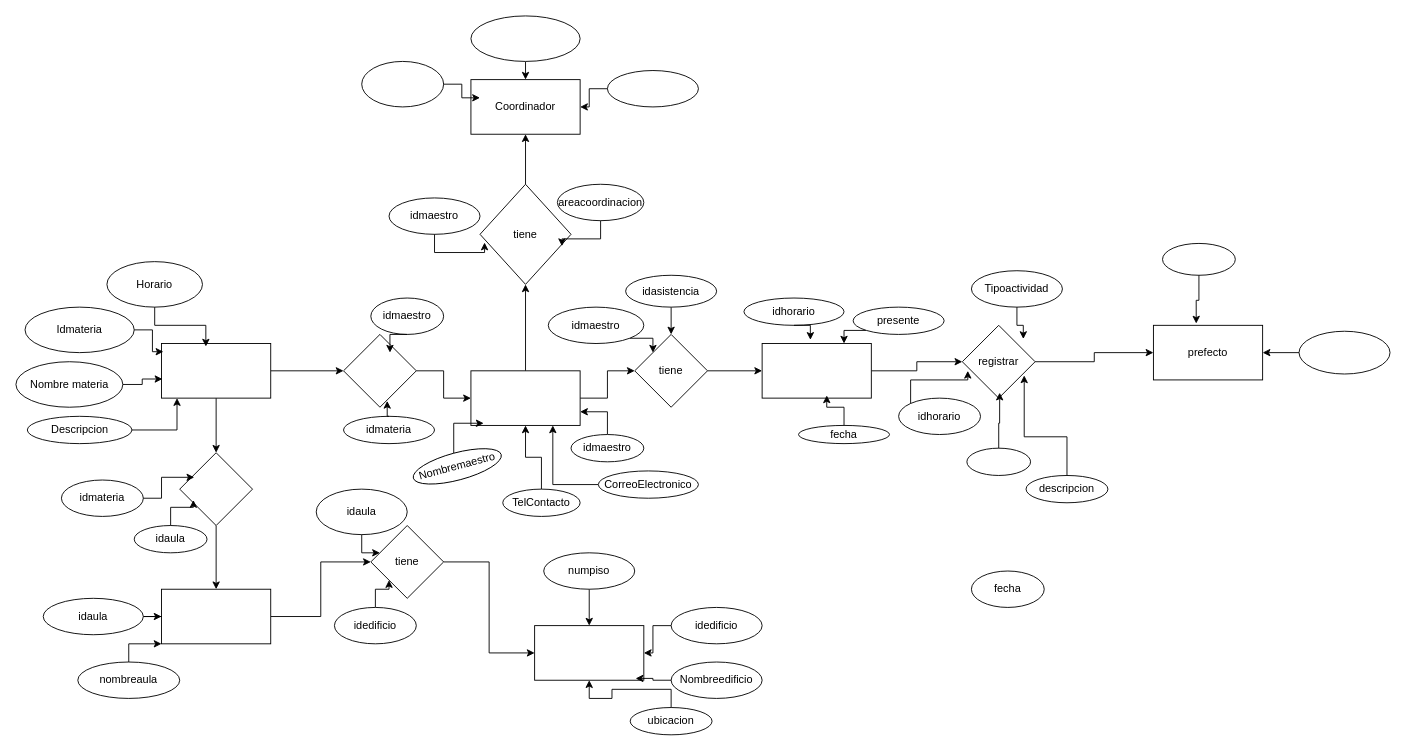
This 1406x751 diagram has some shape labels left out. The box of each missing label's shape, as (x1, y1, x2, y2) in pixels:
areacordinacion: (607, 70, 698, 107)
asistencia: (761, 343, 871, 398)
aulas: (161, 588, 271, 644)
edificio: (534, 625, 644, 680)
idcoordinador: (361, 61, 444, 107)
idprefecto: (1162, 243, 1235, 275)
imparte: (343, 334, 416, 407)
lugar: (966, 447, 1031, 475)
Maestros: (470, 370, 580, 425)
materias: (161, 343, 271, 398)
nombrecoordinador: (470, 15, 580, 61)
nombreprefecto: (1298, 330, 1390, 374)
se toman: (179, 452, 253, 526)
